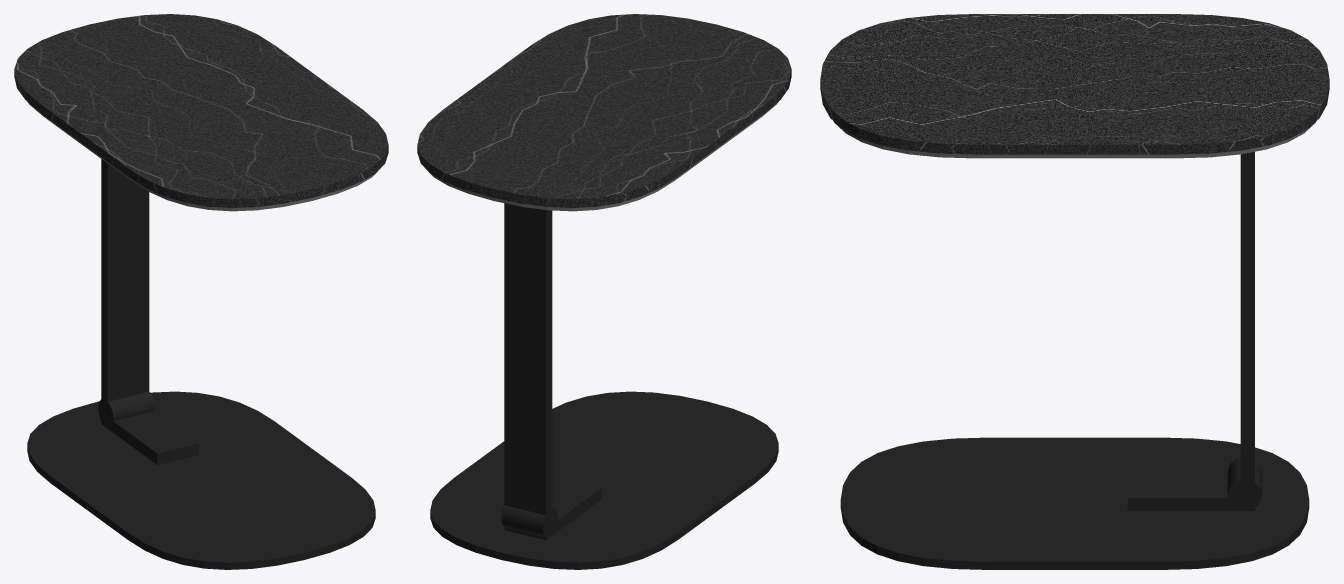
Rendered from ownOvalSide.glb.
3 views of the same model, side by side, from view 1: azimuth 30°, elevation 25°; view 2: azimuth 150°, elevation 25°; view 3: azimuth 270°, elevation 25° (orthographic). The views are drawn at different scales.
Bounding box in the file's own units: 0.34 × 0.52 × 0.56.
Materials: 3 (1 with a texture image).
